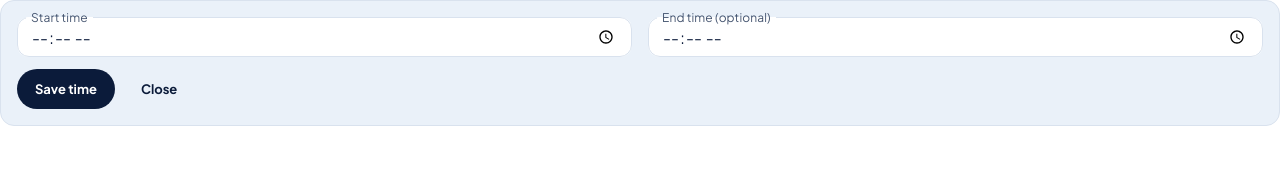
Test: when the planner refuses › shows its message for the time and stays open
Step 1. Type "10:00" into the time field labelled "Start time" → [324, 37], box [17,17,632,57]
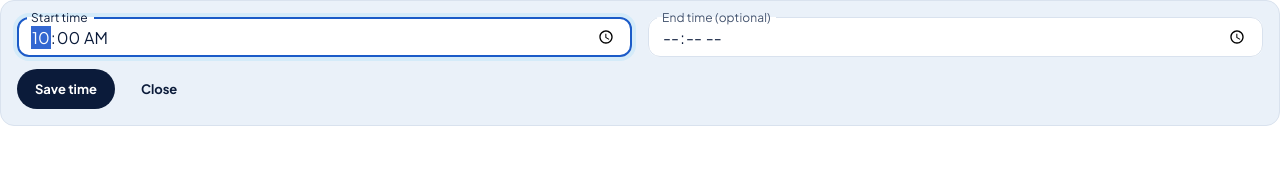
Step 2. Type "09:00" into the time field labelled "End time (optional)" → [956, 37], box [648,17,1263,57]
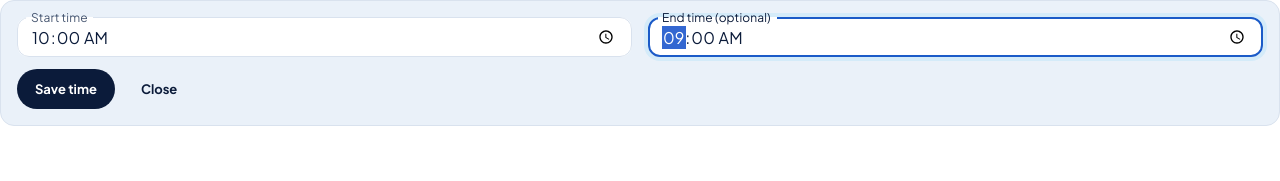
Step 3. Click the button "Save time" → [66, 89], box [17,69,115,109]
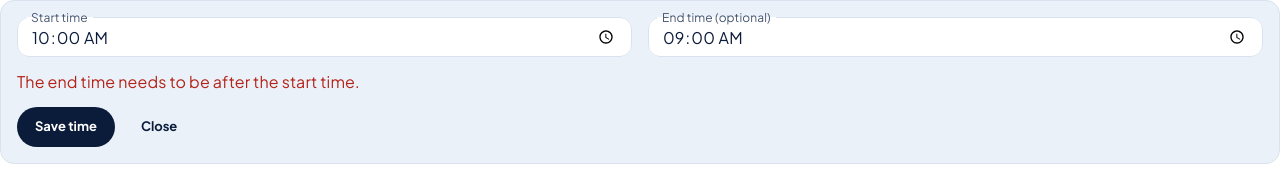
Expected: the message reads "The end time needs to be after the start time.", [17,71,360,92]
